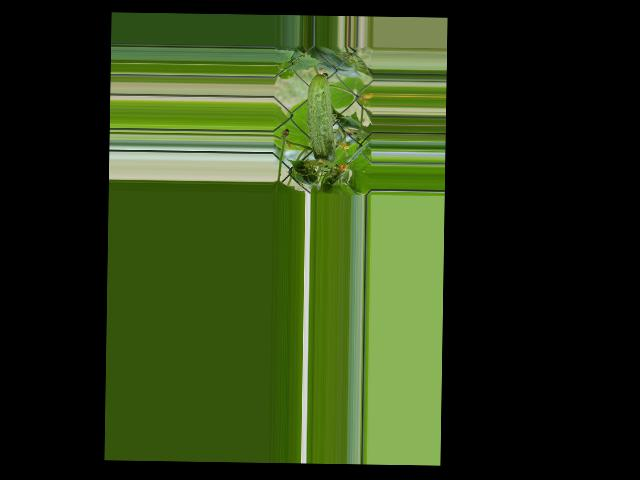cucumber: (306, 68, 335, 167)
